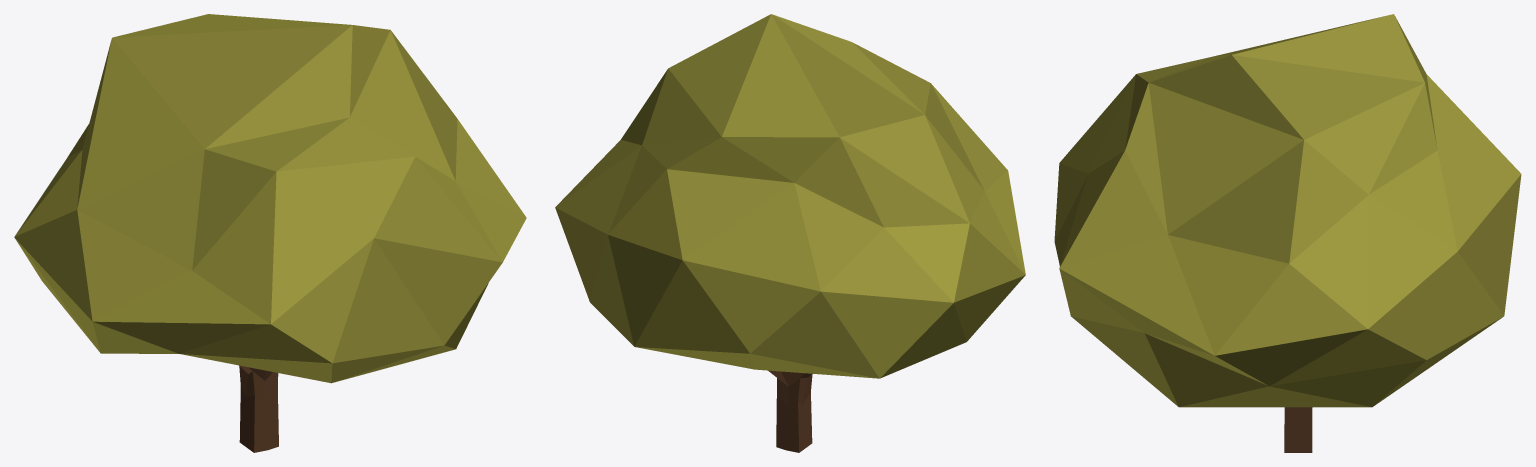
The model's file is Tree_8_Yellow.fbx.
The picture shows the model from 3 angles, left to right: view 1: azimuth 30°, elevation 25°; view 2: azimuth 150°, elevation 25°; view 3: azimuth 270°, elevation 25°; orthographic projection. The views are drawn at different scales.
Visible parts, largest first — view 1: Tree_8_Yellow_Part_1, Tree_8_Yellow_Part_2; view 2: Tree_8_Yellow_Part_1, Tree_8_Yellow_Part_2; view 3: Tree_8_Yellow_Part_1, Tree_8_Yellow_Part_2.
Boxes of the visible parts, left/top/right/bottom form: Tree_8_Yellow_Part_1: left=14, top=14, right=526, bottom=383; Tree_8_Yellow_Part_2: left=239, top=365, right=278, bottom=452; Tree_8_Yellow_Part_1: left=555, top=14, right=1025, bottom=378; Tree_8_Yellow_Part_2: left=768, top=370, right=812, bottom=452; Tree_8_Yellow_Part_1: left=1054, top=14, right=1521, bottom=407; Tree_8_Yellow_Part_2: left=1284, top=407, right=1312, bottom=452.
Size of the model in its own units: 804 by 762 by 766.
